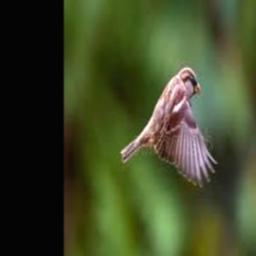Sparrow: (122, 65, 217, 187)
